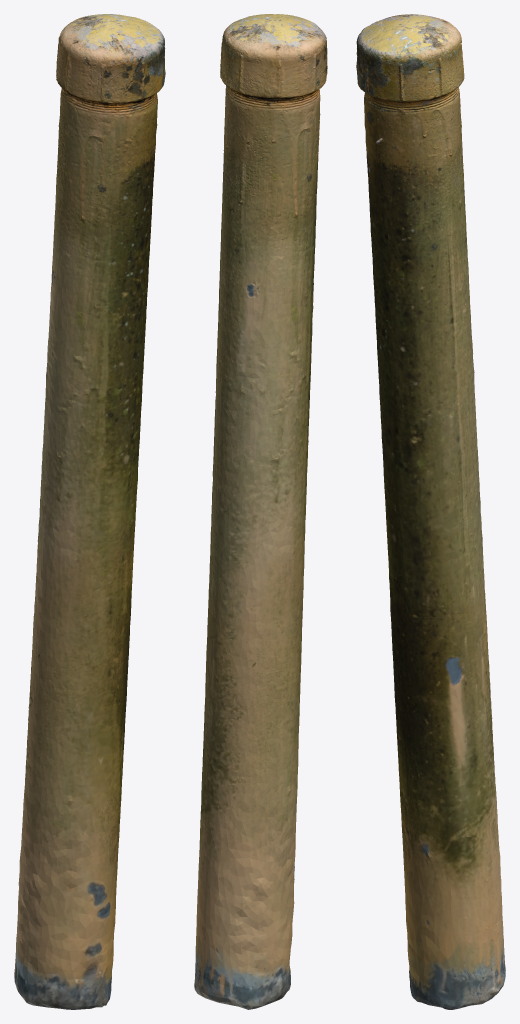
Rendered from Pole.fbx.
3 renders of one model, left to right at view 1: azimuth 90°, elevation 25°; view 2: azimuth 150°, elevation 25°; view 3: azimuth 270°, elevation 25°, orthographic.
Visible parts, largest first — view 1: Mesh_0; view 2: Mesh_0; view 3: Mesh_0.
Part boxes in pixels (<box>): Mesh_0: <box>14,14,165,1009</box>; Mesh_0: <box>194,14,327,1009</box>; Mesh_0: <box>356,14,505,1009</box>.
Bounding box in the file's own units: 30.28 × 291 × 40.79.
1 material, 1 textured.
